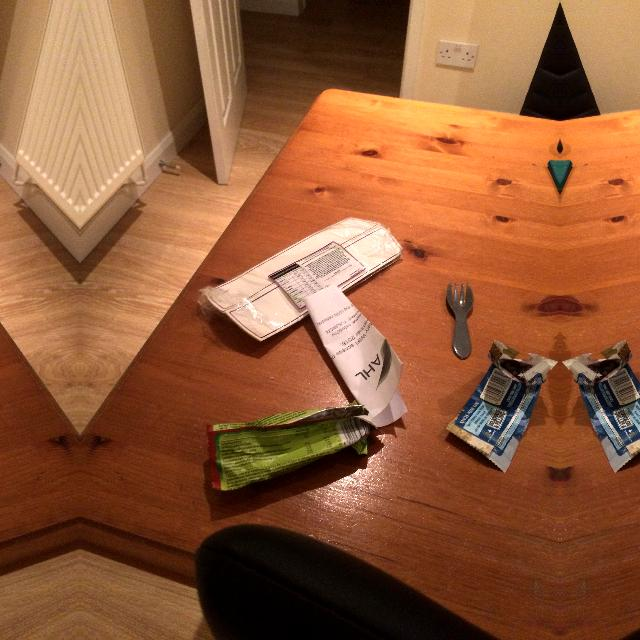Paper: (300, 281, 418, 431)
Plastic: (192, 210, 412, 358), (198, 399, 372, 501), (440, 336, 560, 476), (560, 336, 640, 475), (442, 276, 481, 362)
